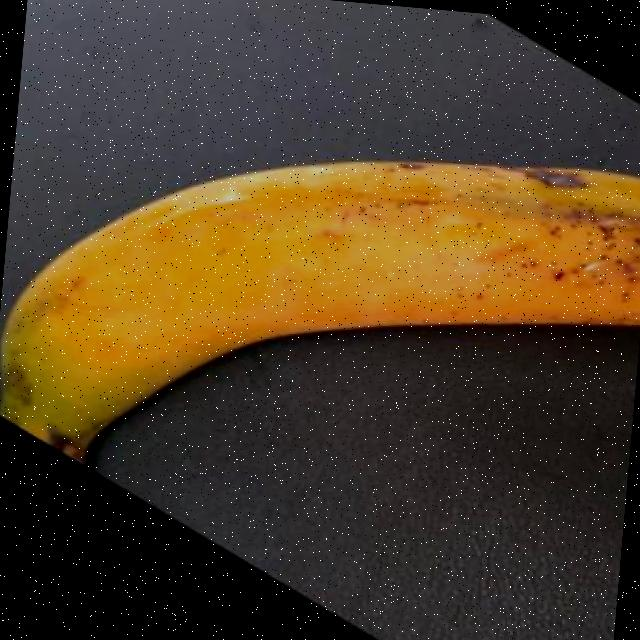Ripe: (0, 66, 640, 520)
